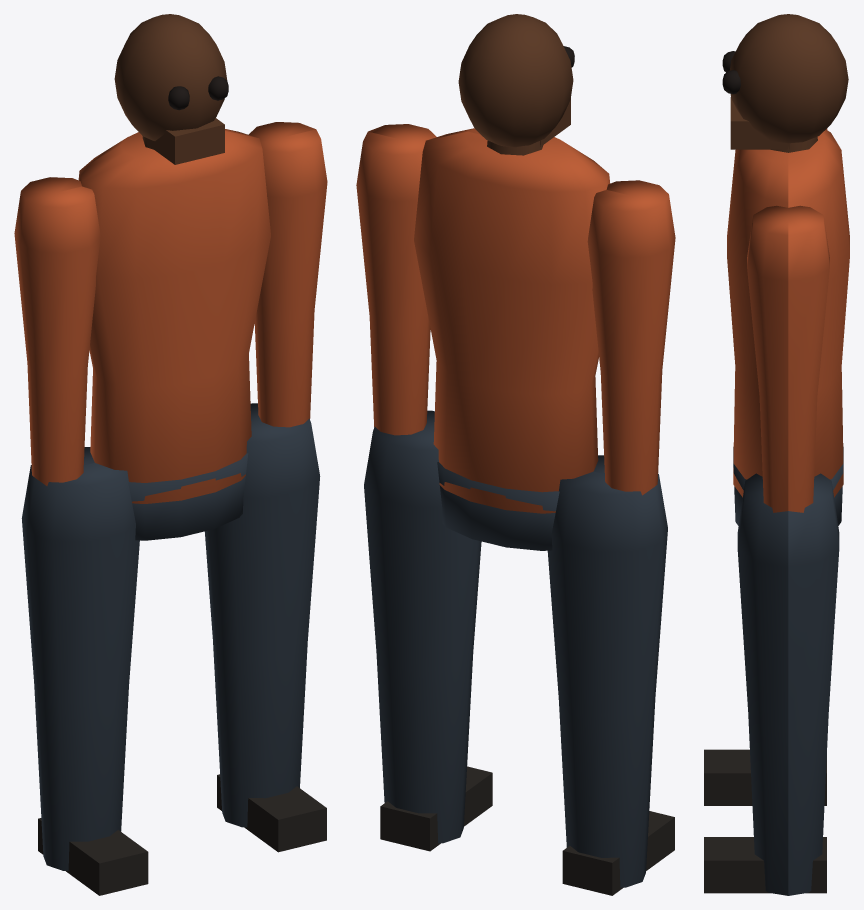
File: survivor_dez.glb
The picture shows the model from 3 angles, left to right: view 1: azimuth 30°, elevation 25°; view 2: azimuth 150°, elevation 25°; view 3: azimuth 270°, elevation 25°; orthographic projection.
Parts seen in each view (by area): view 1: survivor_dez; view 2: survivor_dez; view 3: survivor_dez.
Part boxes in pixels (<box>): survivor_dez: <box>14,14,327,895</box>; survivor_dez: <box>356,14,675,895</box>; survivor_dez: <box>704,14,849,895</box>.
Size of what is drawn, in the model's own units: 0.6818 by 1.77 by 0.2851.
